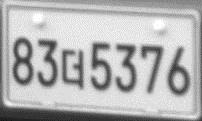3: (35, 37, 59, 86), (114, 42, 136, 92)
5: (89, 41, 112, 92)
6: (165, 45, 193, 95)
7: (135, 40, 164, 95)
8: (12, 36, 34, 85)
더: (59, 46, 85, 91)
